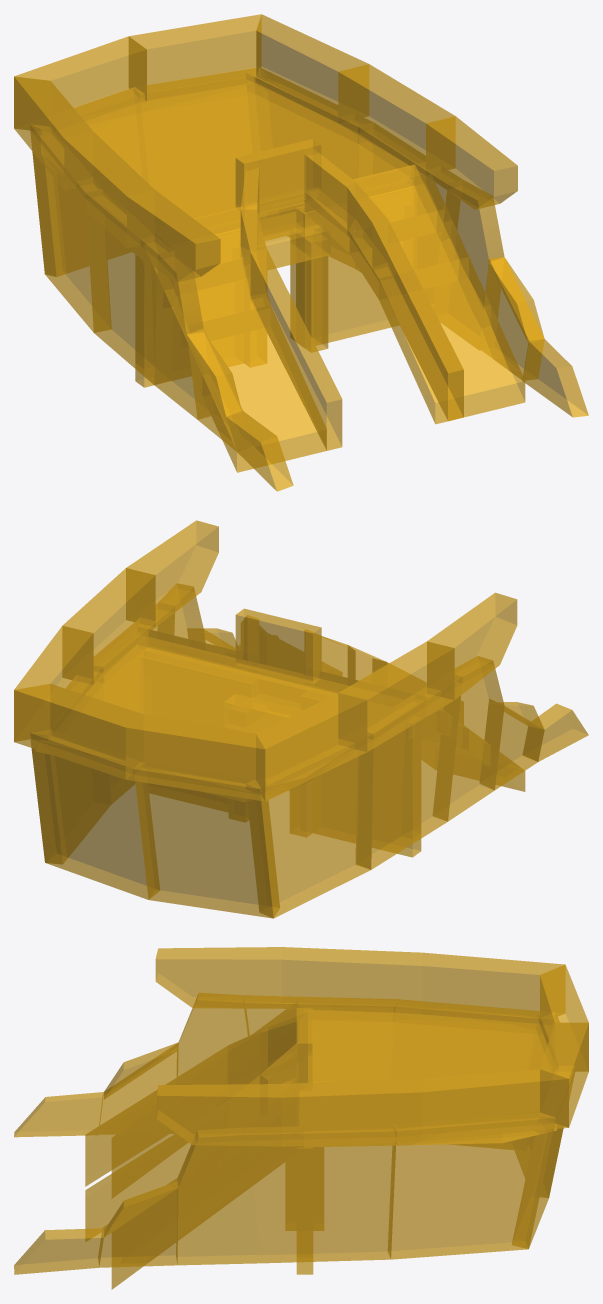
The model's file is SM_Veh_Ship_M_Back_03_Alt_Collision.fbx.
3 views of the same model, one above another, from view 1: azimuth 30°, elevation 25°; view 2: azimuth 150°, elevation 25°; view 3: azimuth 270°, elevation 25° (orthographic). The views are drawn at different scales.
Parts seen in each view (by area): view 1: SM_Veh_Ship_M_Back_03_Alt_Collision; view 2: SM_Veh_Ship_M_Back_03_Alt_Collision; view 3: SM_Veh_Ship_M_Back_03_Alt_Collision.
Part boxes in pixels (x1,y1,x2,y2): SM_Veh_Ship_M_Back_03_Alt_Collision: (14,14,588,491); SM_Veh_Ship_M_Back_03_Alt_Collision: (14,520,588,918); SM_Veh_Ship_M_Back_03_Alt_Collision: (14,947,588,1289).
Bounding box in the file's own units: 700 × 437 × 1128.
